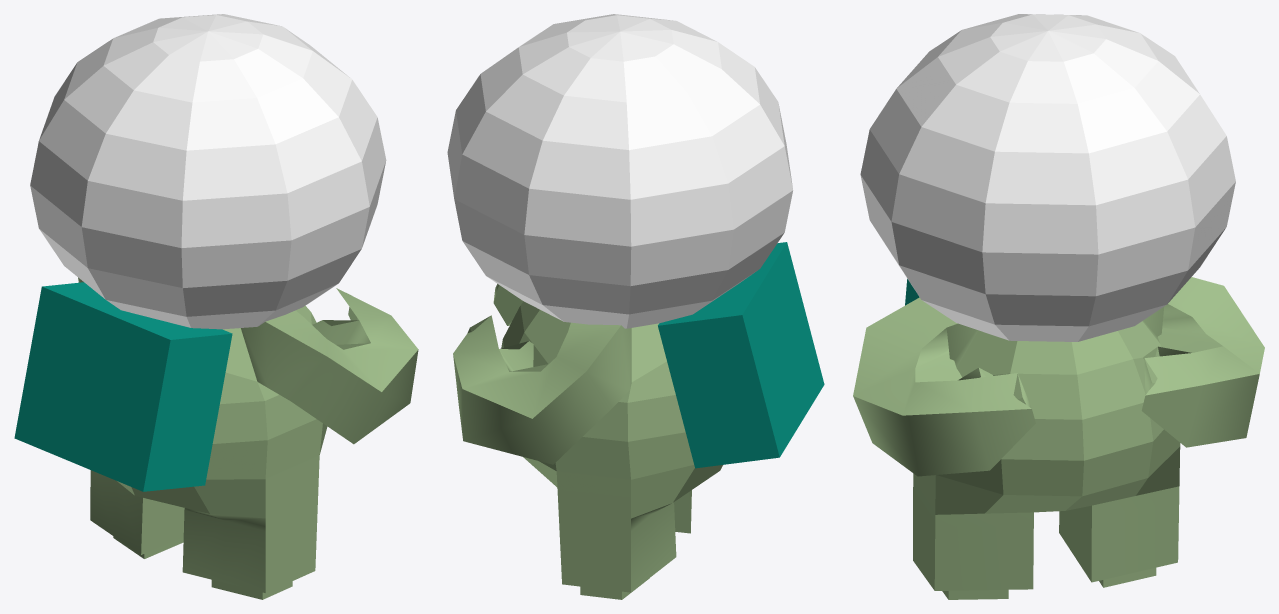
Rendered from kids.fbx.
The picture shows the model from 3 angles, left to right: view 1: azimuth 30°, elevation 25°; view 2: azimuth 150°, elevation 25°; view 3: azimuth 270°, elevation 25°; orthographic projection. The views are drawn at different scales.
Visible parts, largest first — view 1: head, body1, sac; view 2: head, body1, sac; view 3: head, body1.
Part boxes in pixels (x1,y1,x2,y2): head: (30,14,386,329); body1: (78,277,418,599); sac: (14,282,232,491); head: (447,14,793,328); body1: (453,284,722,599); sac: (658,242,824,468); head: (860,14,1235,341); body1: (853,277,1264,599).
Bounding box in the file's own units: 2.1 × 3.23 × 2.19.
